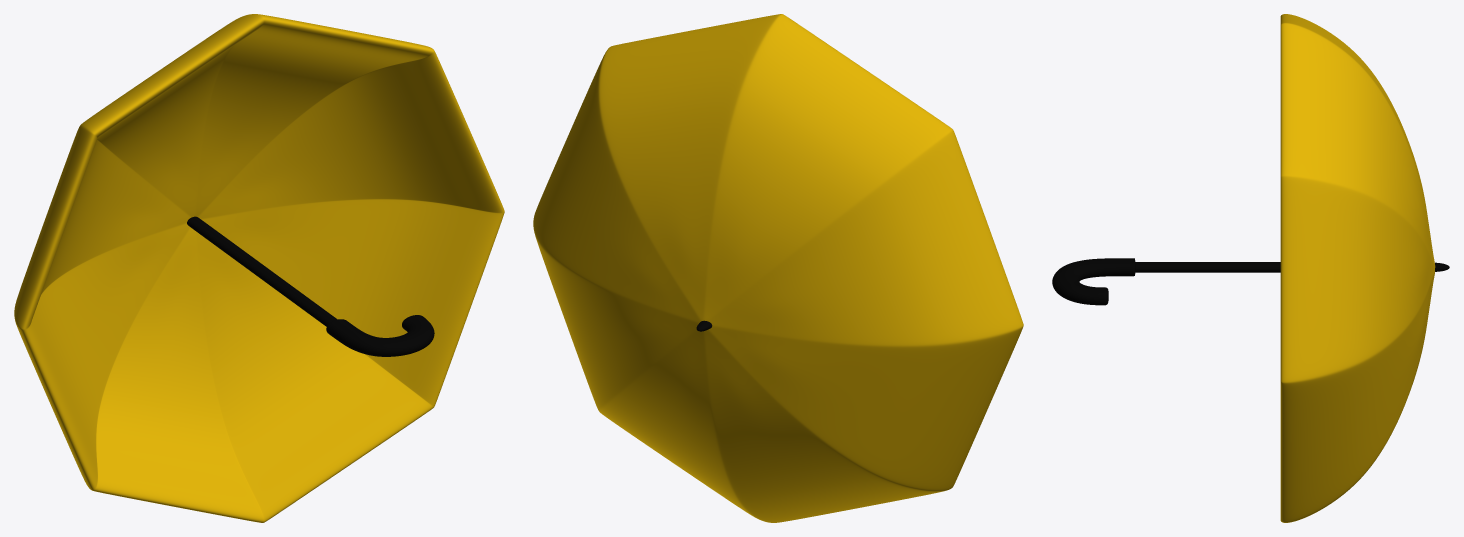
Rendered from umbrella.glb.
3 renders of one model, left to right at view 1: azimuth 30°, elevation 25°; view 2: azimuth 150°, elevation 25°; view 3: azimuth 270°, elevation 25°, orthographic. The views are drawn at different scales.
Visible parts, largest first — view 1: handle; view 2: handle; view 3: handle.
Boxes of the visible parts, left/top/right/bottom form: handle: left=14, top=14, right=504, bottom=522; handle: left=533, top=14, right=1023, bottom=522; handle: left=1052, top=14, right=1449, bottom=522.
Size of the model in its own units: 9.16 by 9.16 by 6.72.
